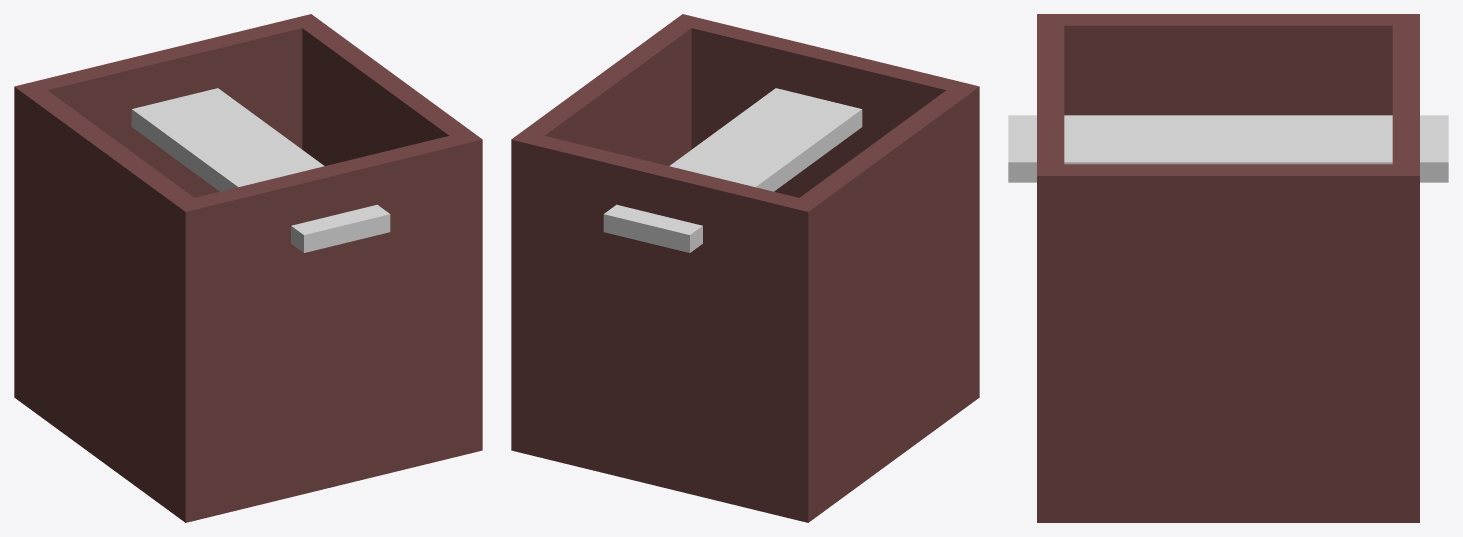
The model's file is ToyBin.fbx.
The picture shows the model from 3 angles, left to right: view 1: azimuth 30°, elevation 25°; view 2: azimuth 150°, elevation 25°; view 3: azimuth 270°, elevation 25°; orthographic projection. The views are drawn at different scales.
Parts seen in each view (by area): view 1: Cube, Cube.001; view 2: Cube, Cube.001; view 3: Cube, Cube.001.
Boxes of the visible parts, left/top/right/bottom form: Cube: left=14, top=14, right=482, bottom=522; Cube.001: left=131, top=88, right=390, bottom=252; Cube: left=511, top=14, right=979, bottom=522; Cube.001: left=603, top=88, right=862, bottom=252; Cube: left=1037, top=14, right=1419, bottom=522; Cube.001: left=1008, top=115, right=1448, bottom=182.
Size of the model in its own units: 33.89 by 33.89 by 38.99.
